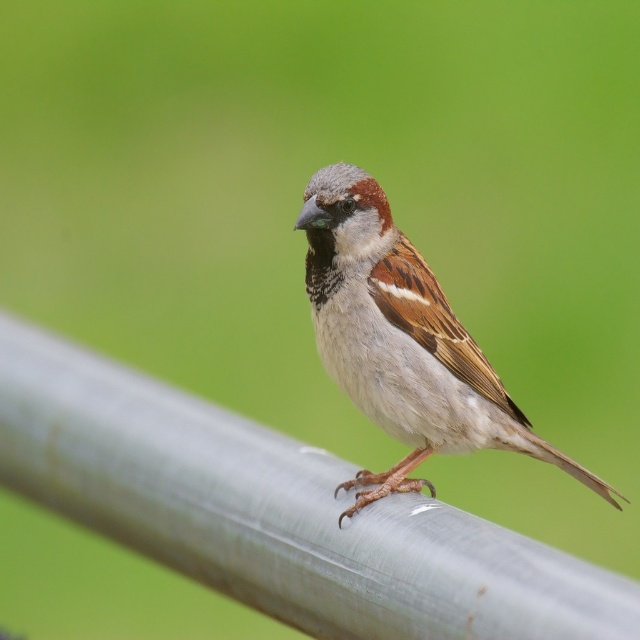Sparrow: (292, 156, 633, 532)
